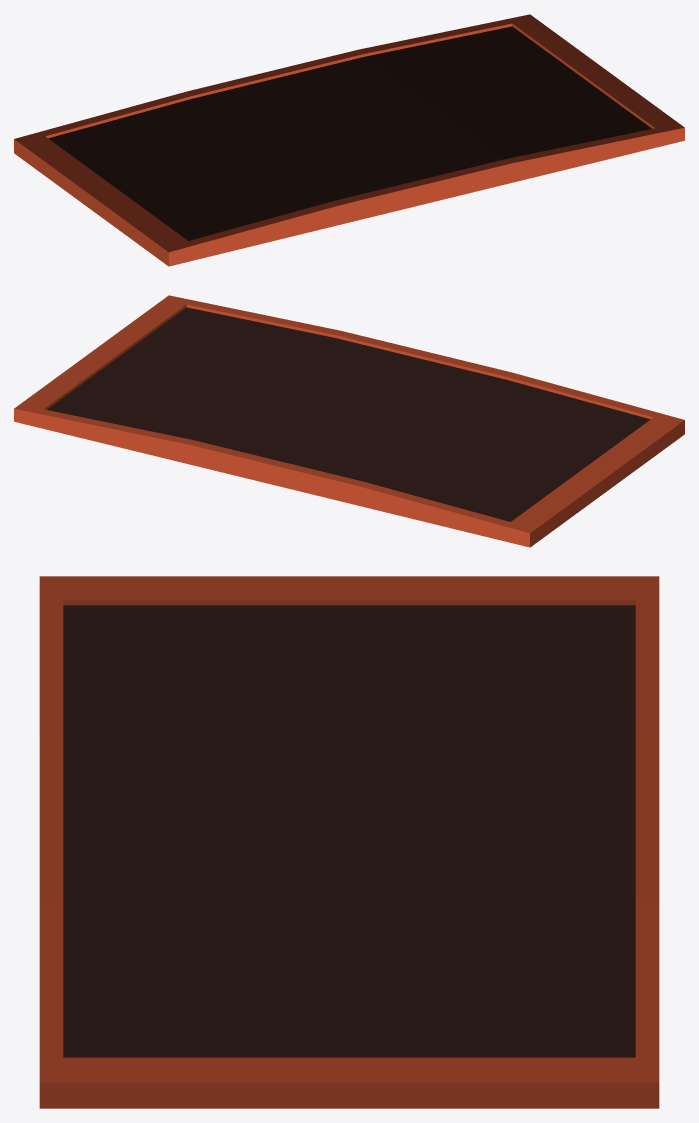
3 views of the same model, one above another, from view 1: azimuth 30°, elevation 25°; view 2: azimuth 150°, elevation 25°; view 3: azimuth 270°, elevation 25° (orthographic). The views are drawn at different scales.
Visible parts, largest first — view 1: Node 0; view 2: Node 0; view 3: Node 0.
Boxes of the visible parts, <box> form: Node 0: <box>14,14,684,266</box>; Node 0: <box>14,295,684,547</box>; Node 0: <box>39,576,659,1108</box>.
Size of the model in its own units: 0.991 by 0.0693 by 1.91.
